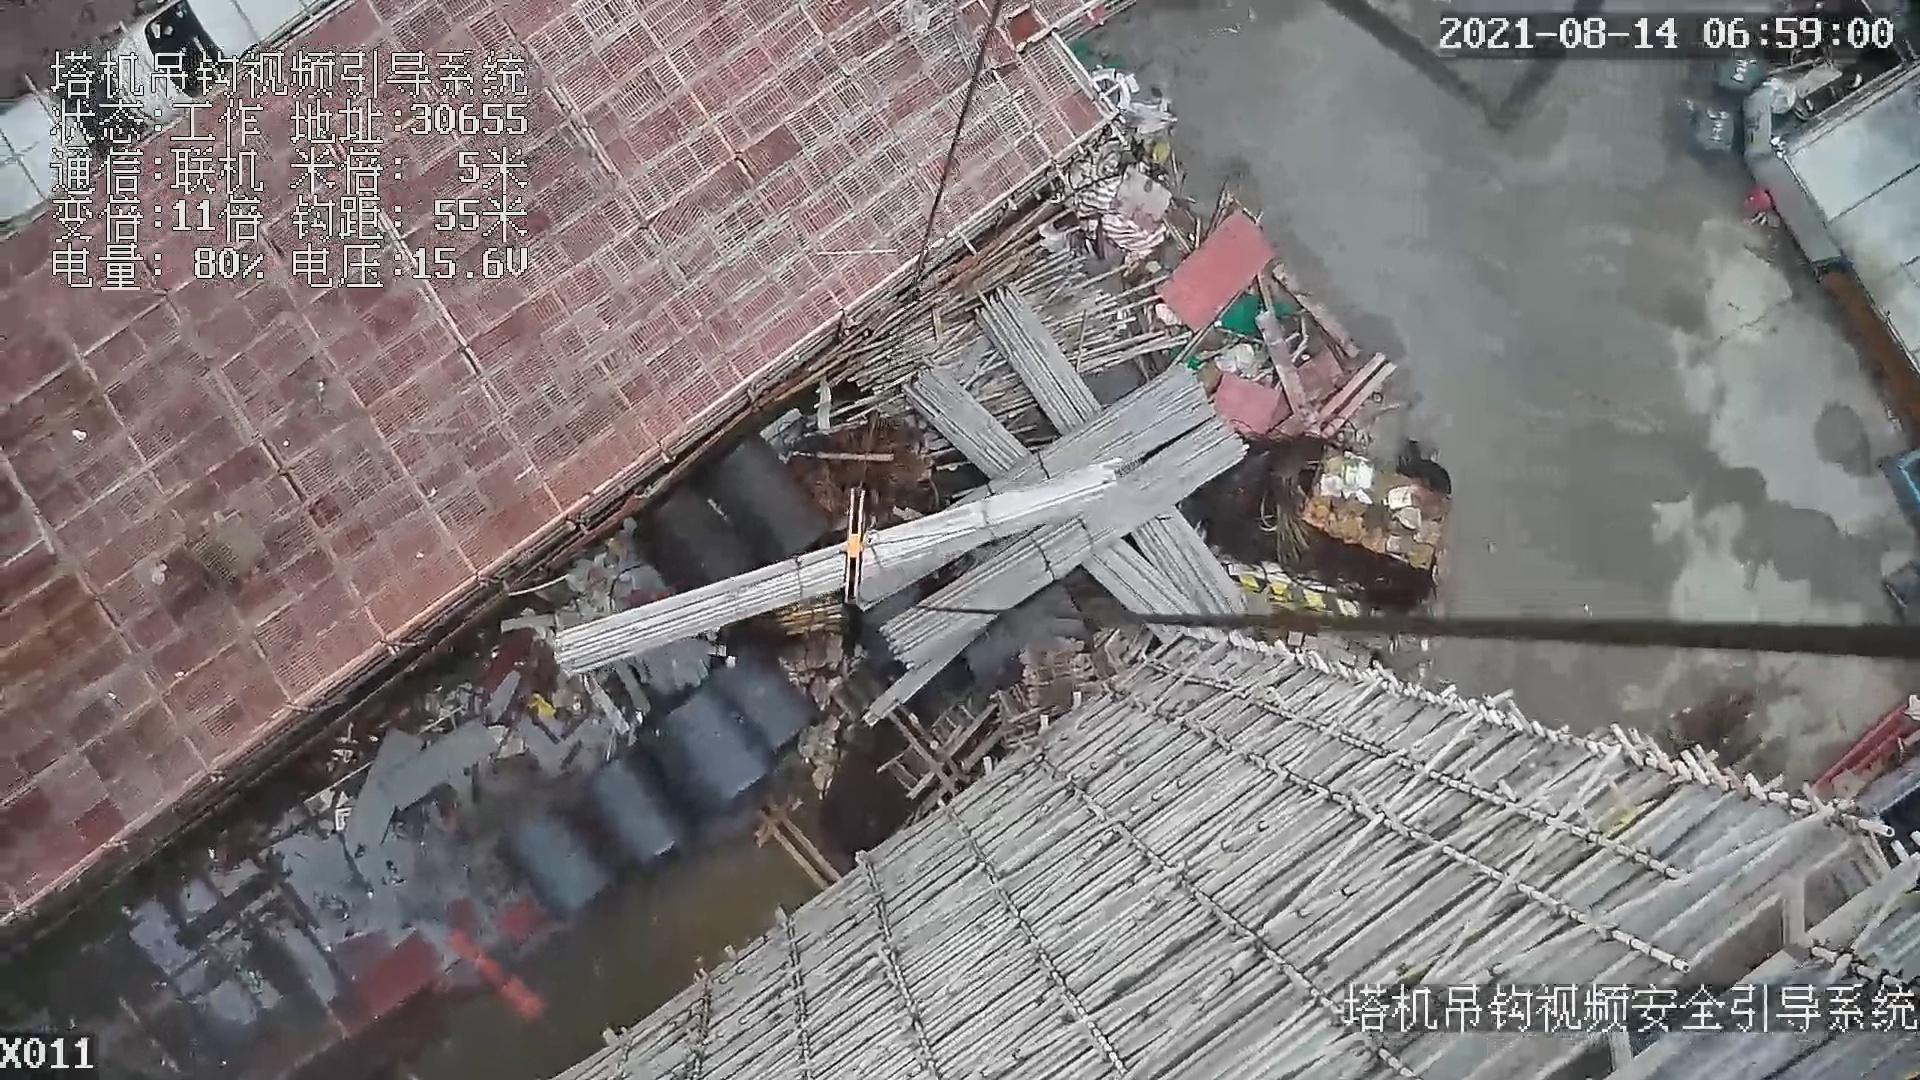hook: (833, 480, 870, 608)
rebar: (549, 460, 1116, 674), (975, 281, 1247, 624), (882, 418, 1249, 661), (905, 367, 1203, 638), (961, 367, 1216, 504)
wood: (775, 593, 844, 634)
